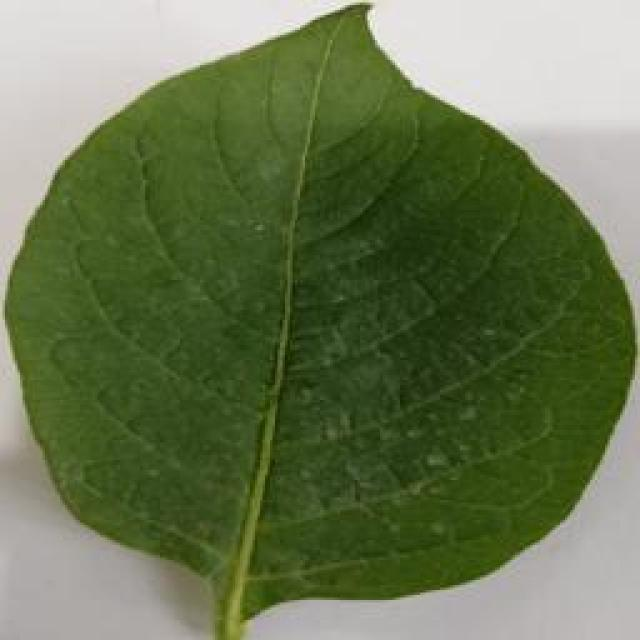Potato_Healthy: (3, 3, 630, 625)
